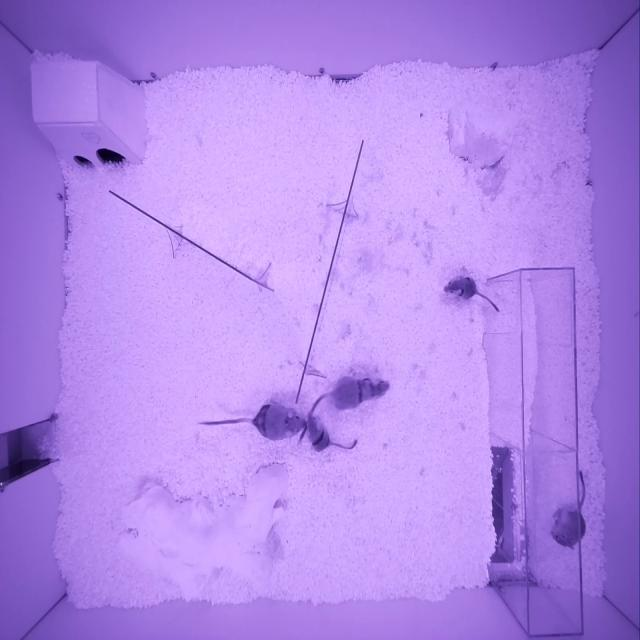adult_back: (252, 404, 306, 440)
adult_front: (331, 376, 390, 409)
pup_fluffy: (552, 507, 587, 550)
pup_h_stripe: (306, 412, 331, 454)
pup_spotted: (442, 275, 477, 299)
